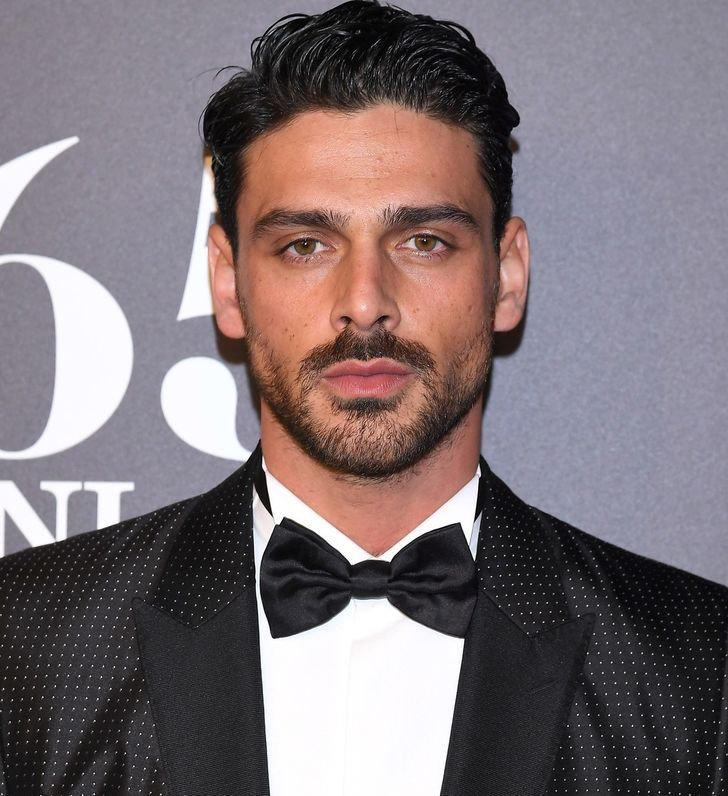Sober: (232, 130, 486, 453)
